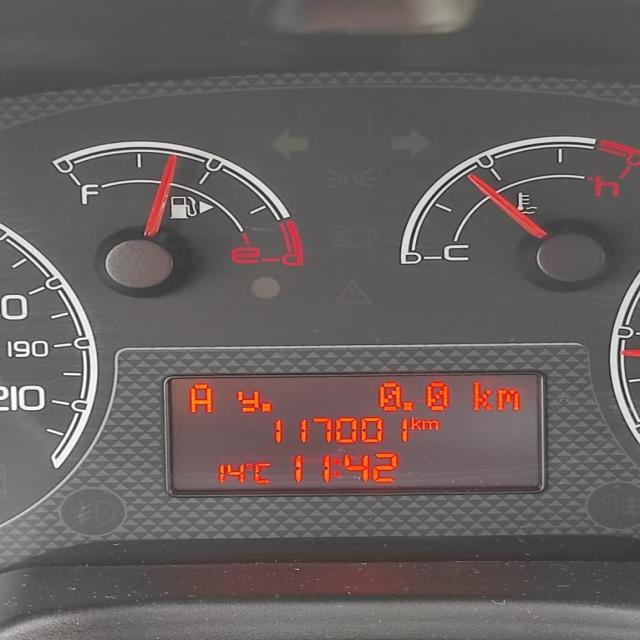odometer: (158, 368, 550, 502)
